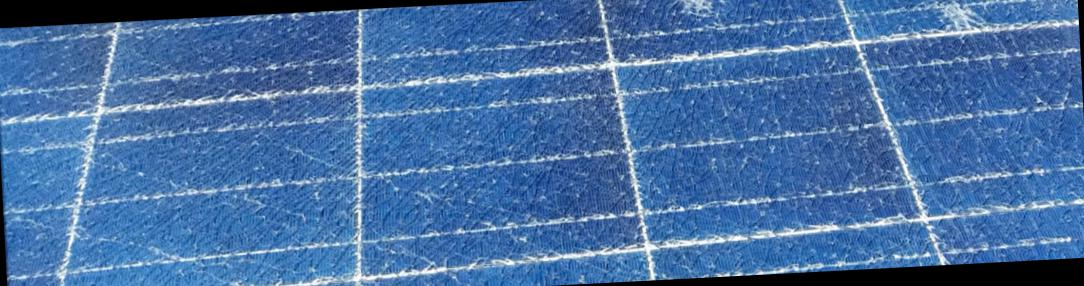Crack: (918, 0, 1011, 52), (663, 0, 739, 28)
